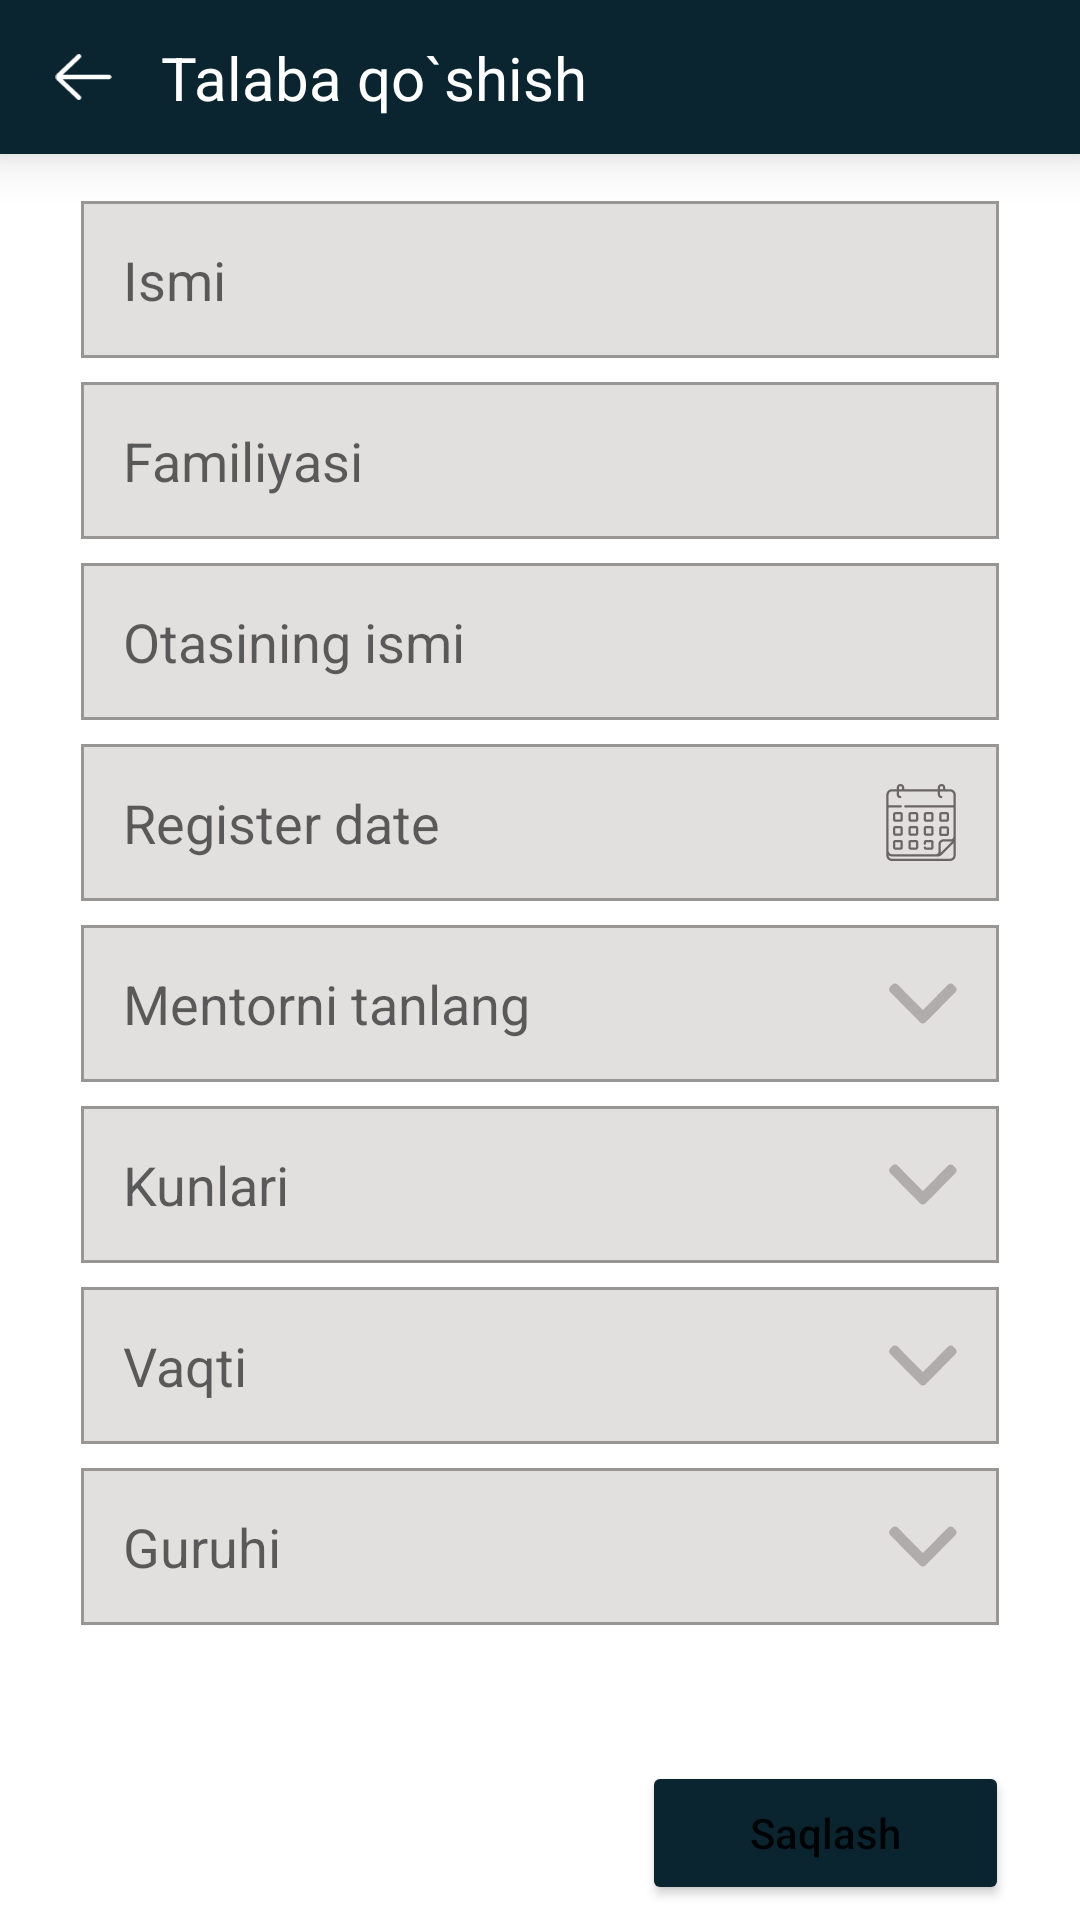

Screen size 1080×1920. Icon name, then its box in pixels as bbox=[x1, y1, x2, y2]:
back: bbox=[55, 54, 112, 100]
bottom: bbox=[889, 983, 957, 1024], bbox=[889, 1164, 957, 1205], bbox=[889, 1345, 957, 1386], bbox=[889, 1526, 957, 1567]
calendar: bbox=[886, 784, 956, 861]
